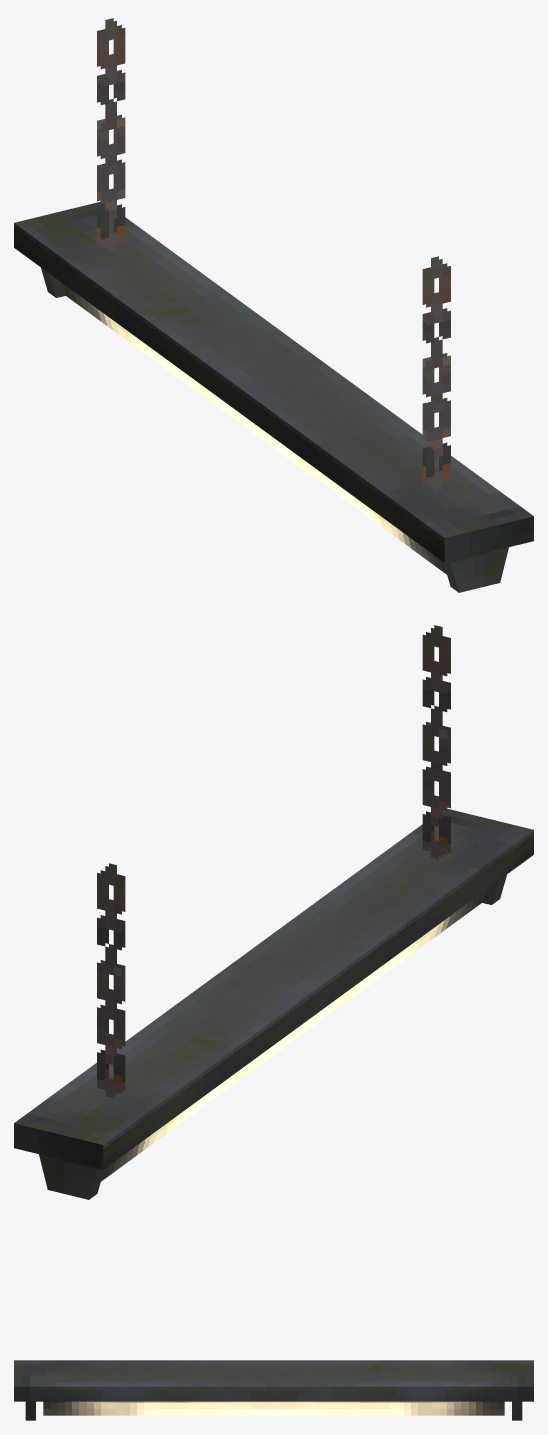
Rendered from Lamp1.fbx.
The picture shows the model from 3 angles, top to bottom: view 1: azimuth 30°, elevation 25°; view 2: azimuth 150°, elevation 25°; view 3: azimuth 270°, elevation 25°; orthographic projection. The views are drawn at different scales.
Parts seen in each view (by area): view 1: Cube.008; view 2: Cube.008; view 3: Cube.008.
Part boxes in pixels (x1,y1,x2,y2): Cube.008: (14, 18, 533, 592); Cube.008: (14, 625, 533, 1199); Cube.008: (14, 1360, 533, 1420).
Bounding box in the file's own units: 0.2703 × 0.8612 × 2.26.
Materials: 1 (1 with a texture image).
